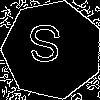S: (27, 24, 62, 71)
